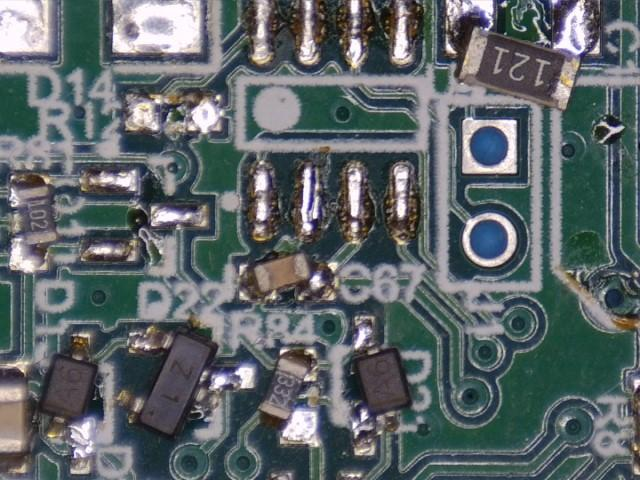Incorrect_installation: (442, 1, 604, 115), (117, 325, 258, 444), (350, 317, 415, 458), (37, 336, 102, 477), (258, 348, 320, 449), (8, 171, 59, 274), (239, 251, 338, 303)
